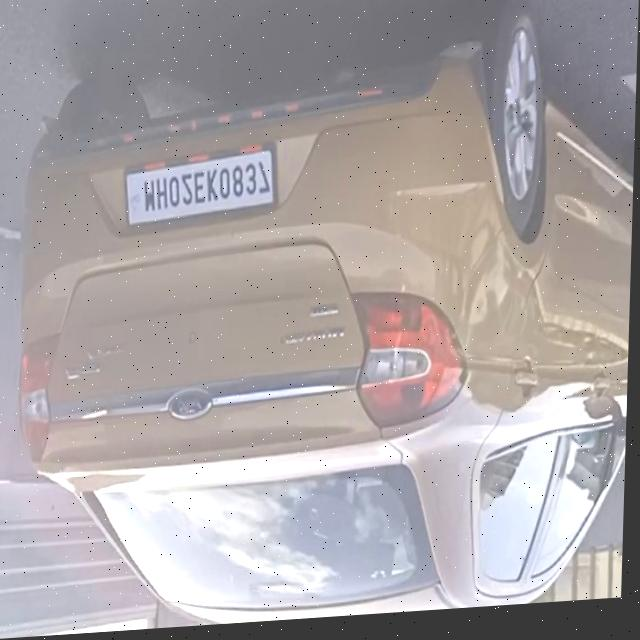plate: (121, 144, 281, 234)
